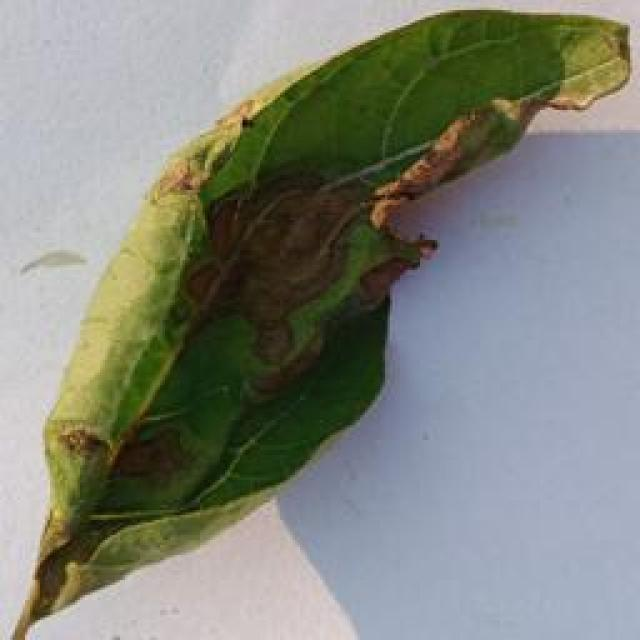Potato_Late_Blight: (9, 8, 620, 638)
